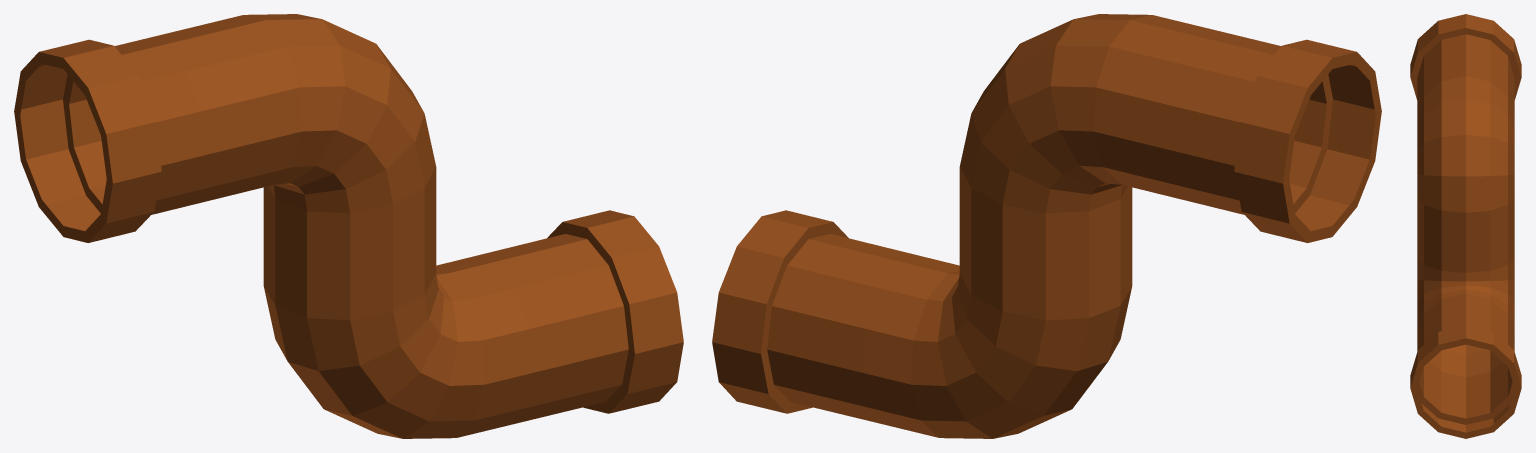
The model's file is wavy_pipe.fbx.
3 views of the same model, side by side, from view 1: azimuth 30°, elevation 25°; view 2: azimuth 150°, elevation 25°; view 3: azimuth 270°, elevation 25° (orthographic). The views are drawn at different scales.
Parts seen in each view (by area): view 1: Plane; view 2: Plane; view 3: Plane.
Boxes of the visible parts, x1,y1,x2,y2 form: Plane: (14, 14, 683, 438); Plane: (712, 14, 1381, 438); Plane: (1410, 14, 1521, 438).
Size of the model in its own units: 4000 by 3192 by 1199.
